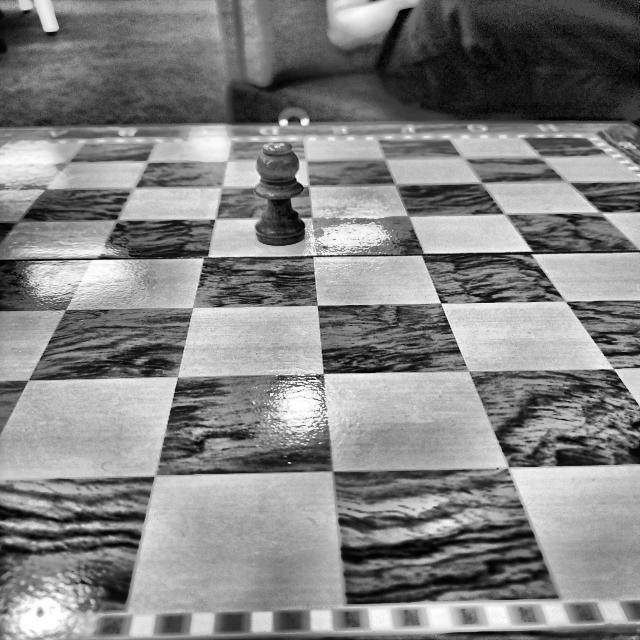black-bishop: (254, 141, 305, 245)
